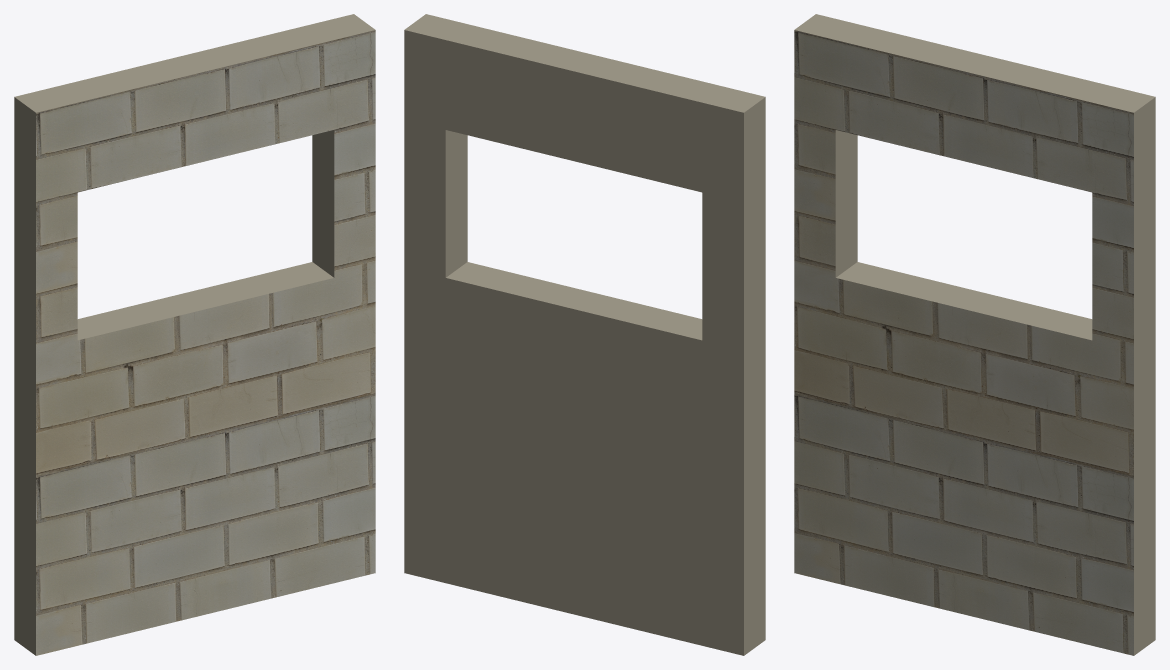
3 renders of one model, left to right at view 1: azimuth 30°, elevation 25°; view 2: azimuth 150°, elevation 25°; view 3: azimuth 330°, elevation 25°, orthographic.
Visible parts, largest first — view 1: wall; view 2: wall; view 3: wall.
Boxes of the visible parts, left/top/right/bottom form: wall: left=14, top=14, right=375, bottom=655; wall: left=404, top=14, right=765, bottom=655; wall: left=794, top=14, right=1155, bottom=655.
Bounding box in the file's own units: 18 × 27.5 × 2.
